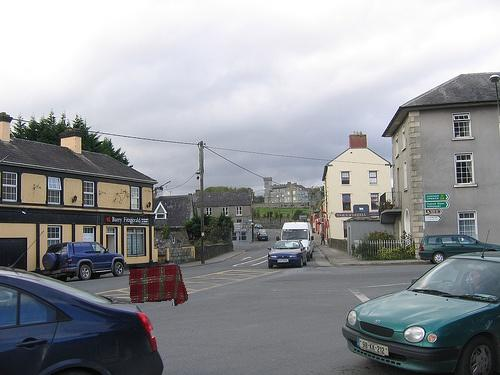tampered: (130, 263, 188, 306)
